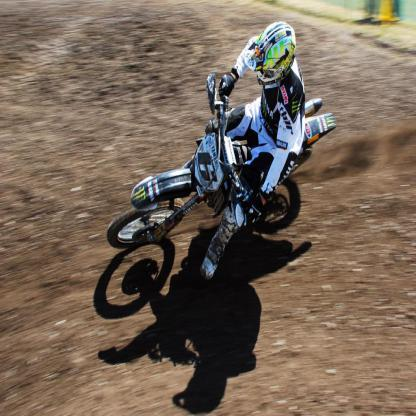motorcycle: (107, 69, 338, 252)
